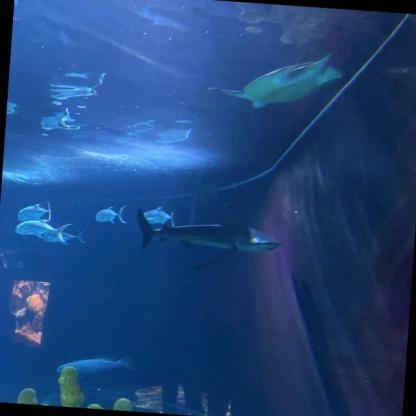fish: (55, 350, 136, 382), (14, 217, 73, 242), (42, 227, 87, 246), (17, 199, 51, 223), (142, 206, 176, 226), (96, 203, 128, 224)
shark: (132, 195, 284, 275)
